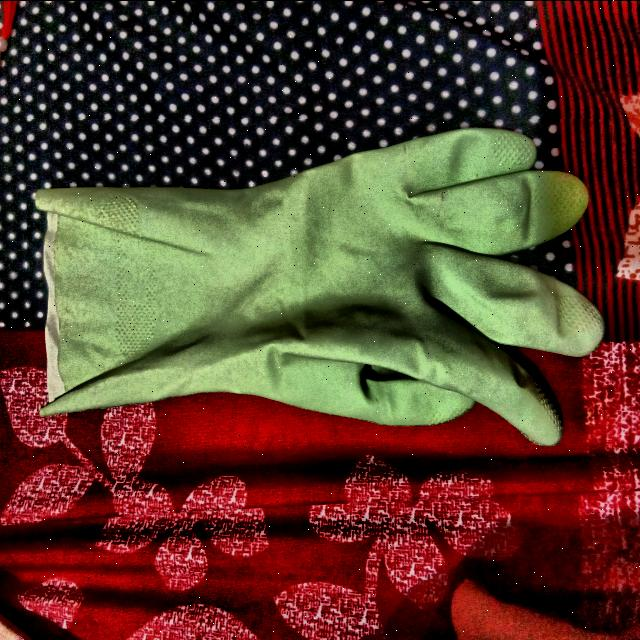gloved: (28, 118, 612, 453)
